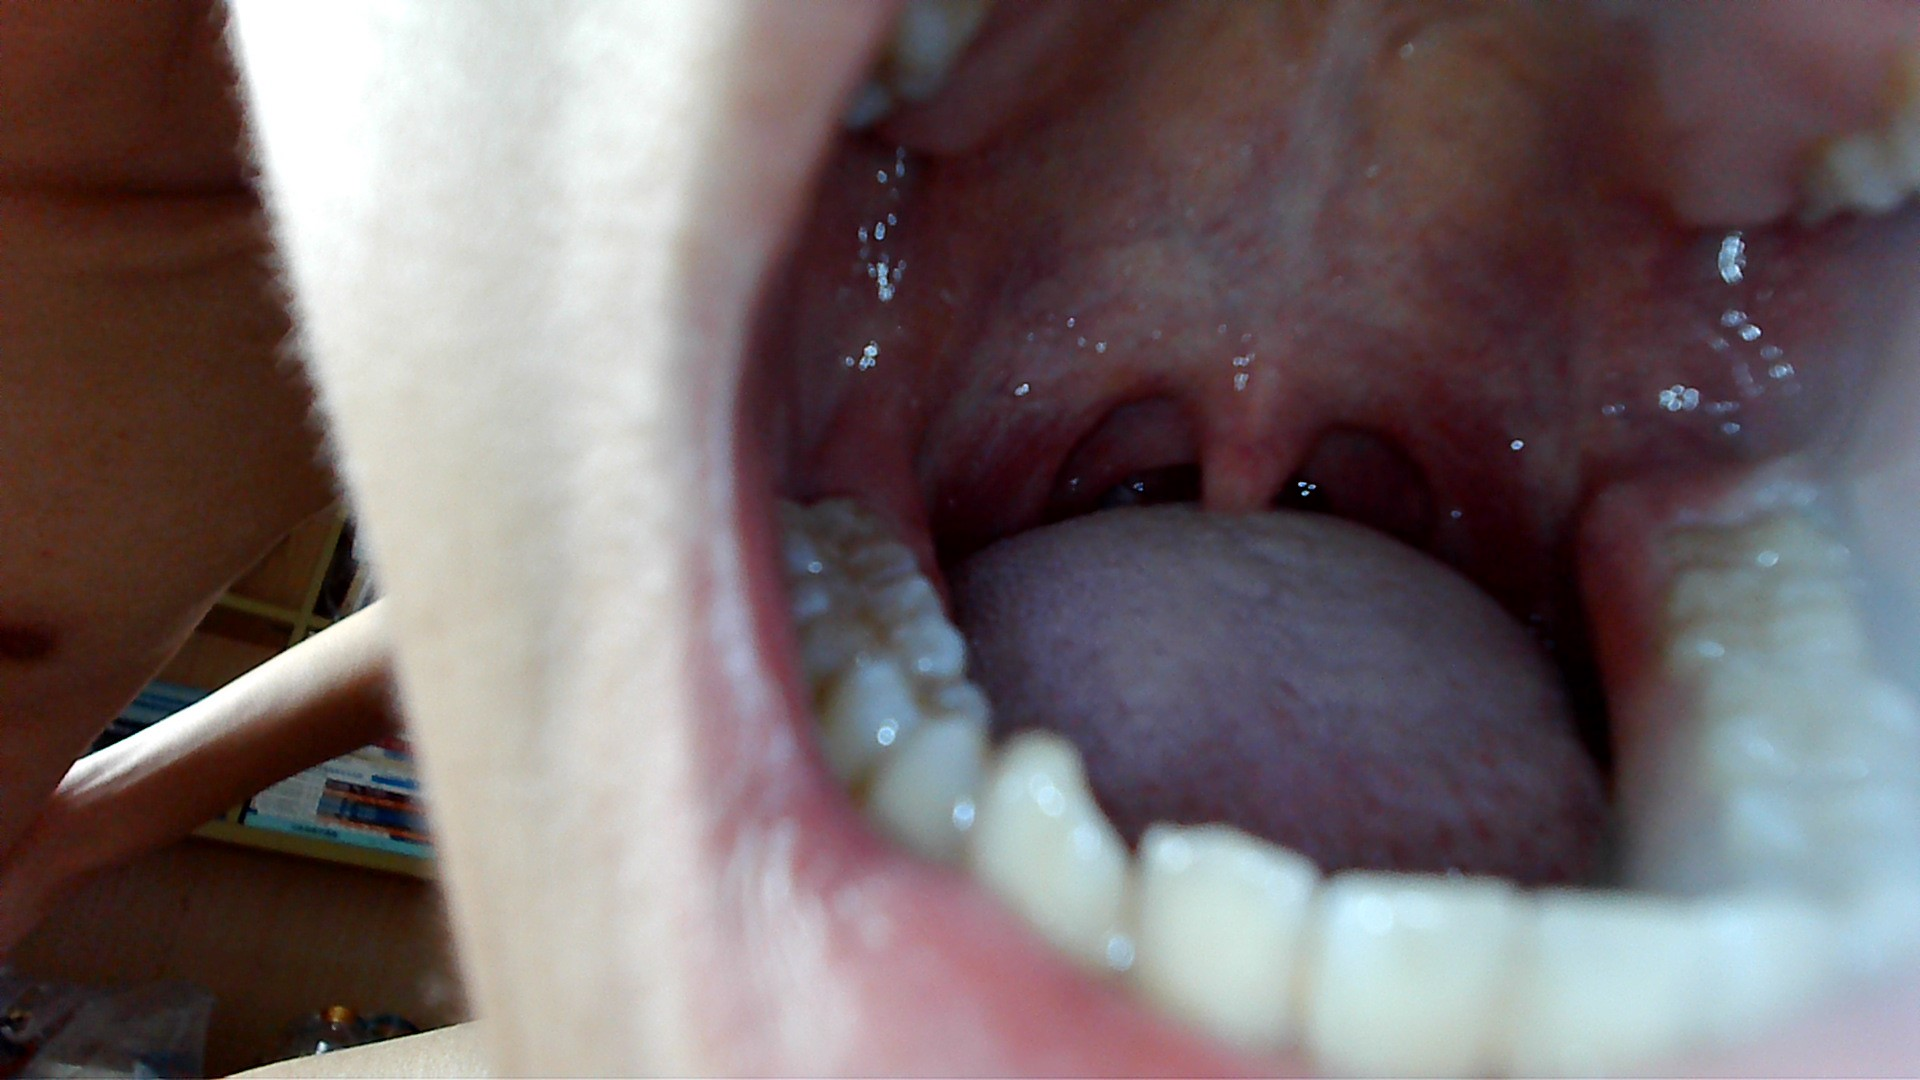throat: (1006, 348, 1102, 531), (1410, 392, 1514, 560)
